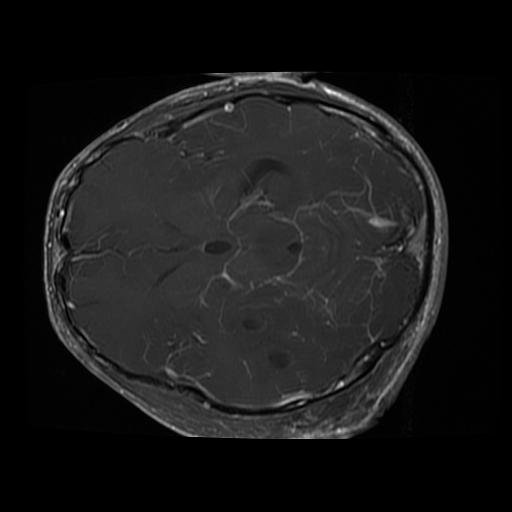glioma: (226, 300, 312, 388)
